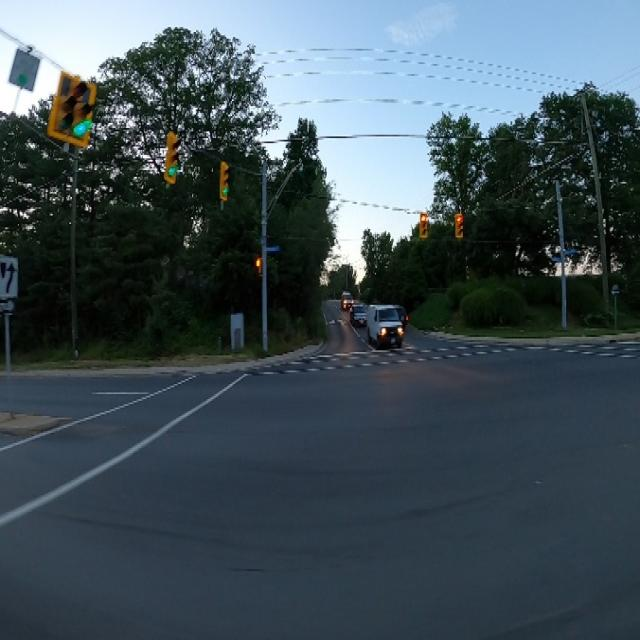cars: (370, 306, 404, 359), (392, 301, 410, 332), (351, 304, 368, 329), (340, 289, 355, 315)
